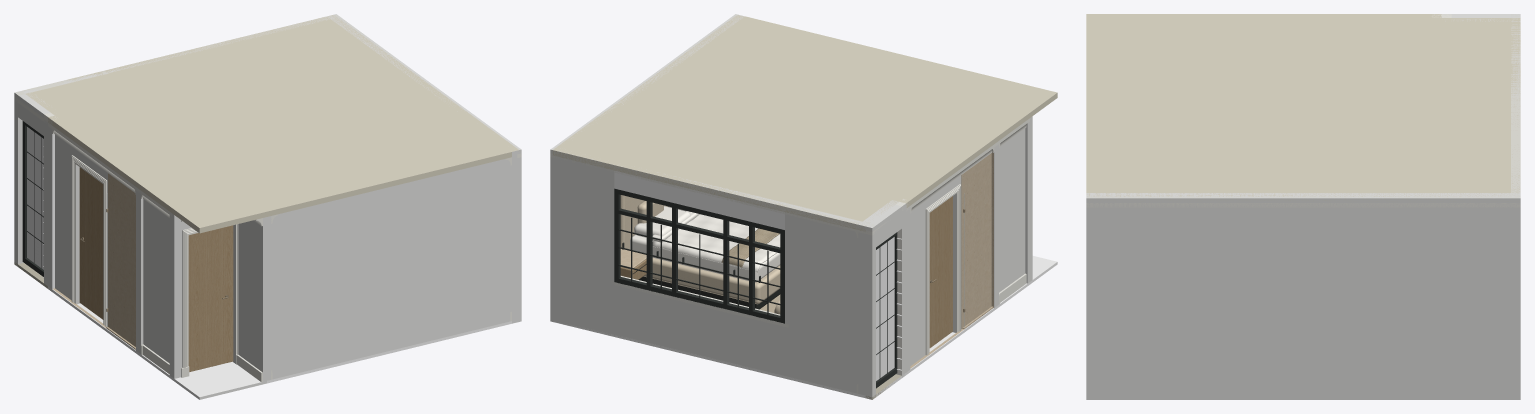
3 renders of one model, left to right at view 1: azimuth 30°, elevation 25°; view 2: azimuth 150°, elevation 25°; view 3: azimuth 270°, elevation 25°, orthographic. The views are drawn at different scales.
Parts seen in each view (by area): view 1: Principal bedroom | ceiling.001, Proposal revision | Principal bedroom 2 | end.001, Guest 01 | entrance door leaf.002, Guestbath 01 | shower east wall.001, Proposal revision | Principal en suite east | end.001, Guest 01 | ensuite door leaf.002, Proposal revision | Principal hall return | end.001, Proposal revision | Principal en suite east | pier 0.001, Landing continuous ceiling.001, Rear bay detail | Principal clear glass.001, Proposal revision | Airing cupboard hall | east jamb.001, Proposal revision | Landing | floor.001 (+15 smaller); view 2: Principal bedroom | ceiling.001, Proposal revision | Principal rear | pier 0.001, Proposal revision | Principal rear | end.001, Proposal revision | Principal rear | below 0.001, Guestbath 01 | shower east wall.001, Proposal revision | Principal en suite east | end.001, Guest 01 | ensuite door leaf.002, Proposal revision | Principal rear | lintel 0.001, Proposal revision | Principal balcony door | end.001, Guest 01 | draped cotton duvet.002, Proposal revision | Principal en suite east | pier 0.001, Rear bay detail | Principal clear glass.001 (+36 smaller); view 3: Proposal revision | First east | end.001, Principal bedroom | ceiling.001, Proposal revision | Roof join | First east masonry head.001, Landing continuous ceiling.001, Roof join | East soffit.001, Proposal revision | Exterior brick floor band First east.001, Proposal | Joined roof lining 037 | Retained original hip 2., Principal en suite | ceiling.001, Bedroom 2 | ceiling.001, Proposal | Joined roof lining 052 | Retained original hip 3., Proposal | Joined roof lining 049 | Retained original hip 3., Proposal revision | Roof join | Principal rear masonry head..
Part boxes in pixels (box(x1,y1,x2,y2)): Principal bedroom | ceiling.001: box(22, 15, 517, 210); Proposal revision | Principal bedroom 2 | end.001: box(267, 159, 511, 380); Guest 01 | entrance door leaf.002: box(188, 225, 233, 371); Guestbath 01 | shower east wall.001: box(108, 173, 135, 346); Proposal revision | Principal en suite east | end.001: box(103, 170, 169, 363); Guest 01 | ensuite door leaf.002: box(79, 167, 103, 319); Proposal revision | Principal hall return | end.001: box(238, 220, 260, 370); Proposal revision | Principal en suite east | pier 0.001: box(55, 134, 80, 303); Landing continuous ceiling.001: box(138, 182, 266, 233); Rear bay detail | Principal clear glass.001: box(27, 127, 43, 269); Proposal revision | Airing cupboard hall | east jamb.001: box(169, 212, 181, 378); Proposal revision | Landing | floor.001: box(138, 353, 266, 399); Principal bedroom | ceiling.001: box(552, 16, 1022, 231); Proposal revision | Principal rear | pier 0.001: box(785, 212, 865, 393); Proposal revision | Principal rear | end.001: box(552, 155, 614, 333); Proposal revision | Principal rear | below 0.001: box(614, 282, 784, 375); Guestbath 01 | shower east wall.001: box(961, 153, 991, 328); Proposal revision | Principal en suite east | end.001: box(952, 128, 1025, 332); Guest 01 | ensuite door leaf.002: box(929, 196, 952, 347); Proposal revision | Principal rear | lintel 0.001: box(614, 170, 784, 229); Proposal revision | Principal balcony door | end.001: box(858, 231, 875, 397); Guest 01 | draped cotton duvet.002: box(652, 214, 780, 272); Proposal revision | Principal en suite east | pier 0.001: box(910, 199, 928, 365); Rear bay detail | Principal clear glass.001: box(876, 237, 894, 380); Proposal revision | First east | end.001: box(1086, 204, 1520, 396); Principal bedroom | ceiling.001: box(1090, 18, 1520, 196); Proposal revision | Roof join | First east masonry head.001: box(1086, 193, 1520, 204); Landing continuous ceiling.001: box(1086, 14, 1229, 52); Roof join | East soffit.001: box(1086, 203, 1520, 207); Proposal revision | Exterior brick floor band First east.001: box(1086, 397, 1520, 399); Proposal | Joined roof lining 037 | Retained original hip 2.: box(1143, 195, 1518, 202); Principal en suite | ceiling.001: box(1229, 14, 1441, 17); Bedroom 2 | ceiling.001: box(1086, 52, 1090, 196); Proposal | Joined roof lining 052 | Retained original hip 3.: box(1511, 74, 1520, 146); Proposal | Joined roof lining 049 | Retained original hip 3.: box(1511, 146, 1520, 198); Proposal revision | Roof join | Principal rear masonry head.: box(1512, 18, 1520, 196).
Bounding box in the file's own units: 5.04 × 2.57 × 5.02.
Materials: 29 (6 with a texture image).
